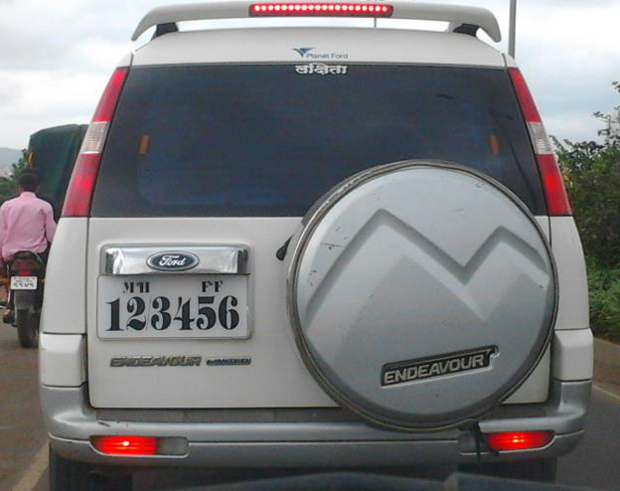number_plate: (94, 273, 251, 341)
